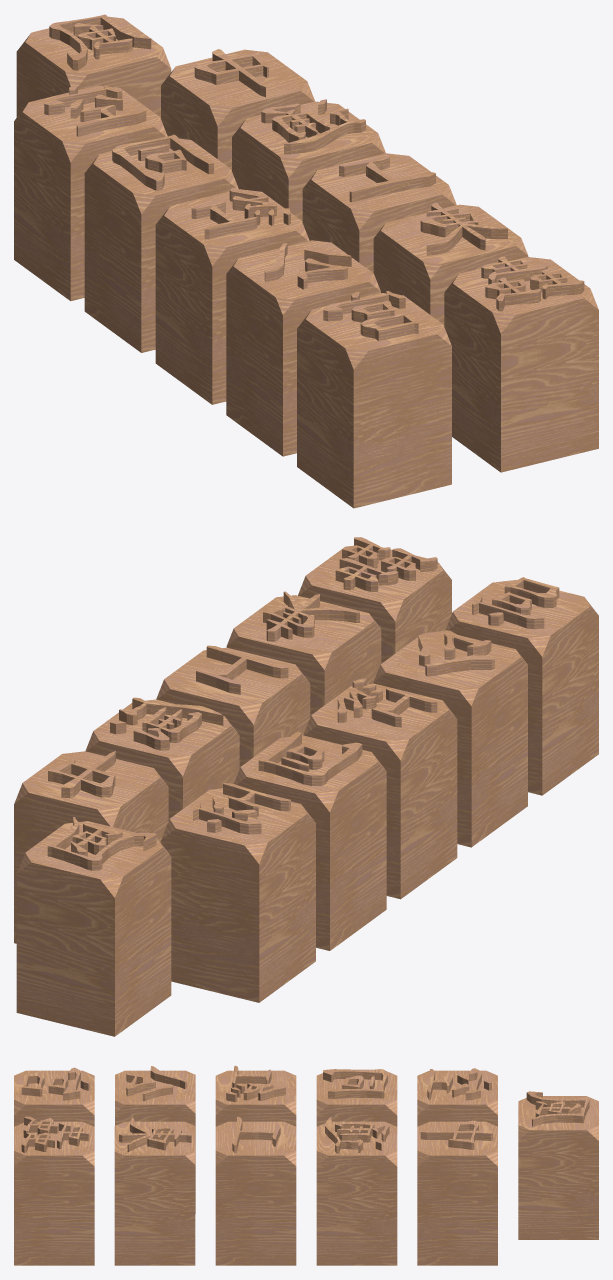
File: 木活字_1.fbx
3 renders of one model, top to bottom at view 1: azimuth 30°, elevation 25°; view 2: azimuth 150°, elevation 25°; view 3: azimuth 270°, elevation 25°, orthographic. The views are drawn at different scales.
Parts seen in each view (by area): view 1: Box023, Box024, Box017, Box019, Box810, Box015, Box014, Box018, Box809, Box020, Box016; view 2: Box014, Box015, Box019, Box810, Box023, Box017, Box016, Box018, Box809, Box024, Box020; view 3: Box809, Box020, Box018, Box024, Box014, Box016, Box810, Box017, Box019, Box015, Box023.
Boxes of the visible parts, left/top/right/bottom form: Box023: left=297, top=291, right=451, bottom=508; Box024: left=444, top=256, right=598, bottom=472; Box017: left=84, top=134, right=238, bottom=352; Box019: left=155, top=187, right=309, bottom=404; Box810: left=226, top=240, right=380, bottom=456; Box015: left=14, top=85, right=167, bottom=301; Box014: left=16, top=14, right=171, bottom=118; Box018: left=232, top=99, right=385, bottom=222; Box809: left=373, top=202, right=528, bottom=325; Box020: left=302, top=153, right=456, bottom=272; Box016: left=161, top=49, right=314, bottom=170; Box014: left=16, top=817, right=171, bottom=1036; Box015: left=161, top=782, right=315, bottom=1002; Box019: left=303, top=678, right=457, bottom=899; Box810: left=373, top=630, right=527, bottom=847; Box023: left=445, top=577, right=598, bottom=795; Box017: left=234, top=731, right=386, bottom=950; Box016: left=14, top=751, right=168, bottom=943; Box018: left=85, top=697, right=239, bottom=820; Box809: left=226, top=591, right=381, bottom=716; Box024: left=298, top=537, right=451, bottom=663; Box020: left=156, top=645, right=310, bottom=768; Box809: left=114, top=1117, right=195, bottom=1265; Box020: left=215, top=1116, right=296, bottom=1265; Box018: left=316, top=1116, right=397, bottom=1265; Box024: left=14, top=1116, right=94, bottom=1265; Box014: left=518, top=1091, right=598, bottom=1239; Box016: left=417, top=1120, right=497, bottom=1265; Box810: left=115, top=1066, right=195, bottom=1213; Box017: left=316, top=1069, right=397, bottom=1126; Box019: left=215, top=1065, right=296, bottom=1126; Box015: left=417, top=1068, right=497, bottom=1126; Box023: left=14, top=1067, right=94, bottom=1126.
Bounding box in the file's own units: 5 × 3.2 × 14.5.
Materials: 1 (1 with a texture image).
